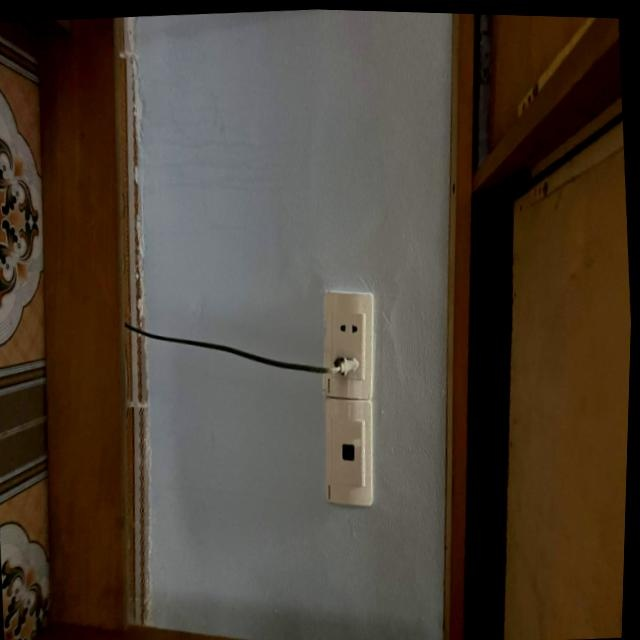outlet: (315, 287, 380, 402), (317, 394, 379, 509)
